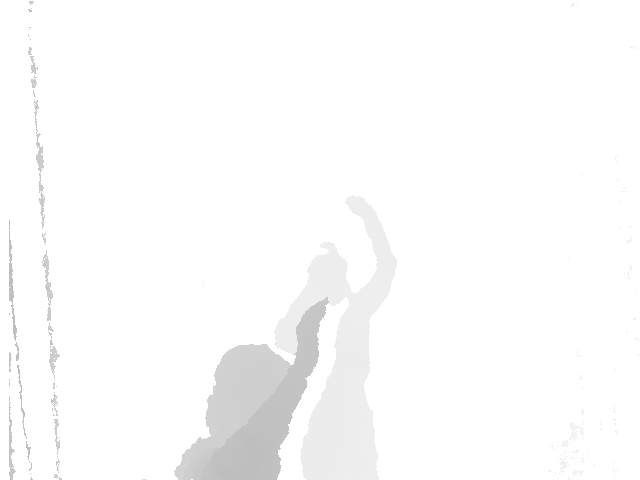hand: (295, 298, 326, 372), (344, 193, 381, 224)
head: (206, 343, 295, 440), (308, 243, 348, 295)
person: (274, 192, 397, 480), (172, 299, 326, 480)
